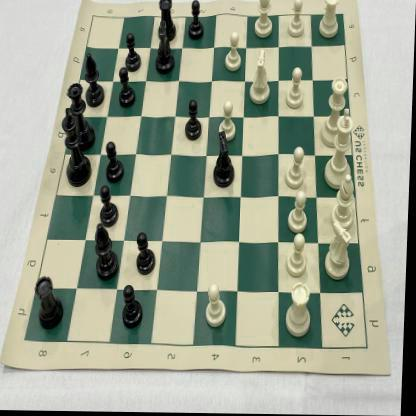black-bishop: (96, 223, 122, 282), (86, 52, 106, 109)
black-king: (61, 108, 94, 186)
black-knight: (212, 131, 240, 190), (155, 19, 176, 76)
black-pawn: (136, 233, 160, 278), (124, 286, 148, 330), (105, 141, 128, 186), (99, 188, 123, 229), (118, 68, 140, 110), (186, 99, 204, 143), (125, 33, 143, 75), (188, 0, 206, 41)
black-queen: (65, 82, 94, 145)
black-rook: (35, 276, 67, 332), (157, 0, 178, 43)
white-bishop: (332, 172, 360, 230), (252, 0, 275, 38)
white-king: (326, 108, 358, 190)
white-knight: (326, 218, 356, 280), (248, 47, 274, 106)
white-pawn: (207, 282, 231, 328), (288, 232, 310, 278), (284, 147, 308, 189), (290, 189, 310, 234), (286, 67, 306, 109), (286, 0, 306, 40), (220, 100, 238, 140), (226, 32, 242, 74)
white-queen: (320, 74, 350, 148)
white-rook: (288, 280, 316, 338), (317, 0, 342, 40)
